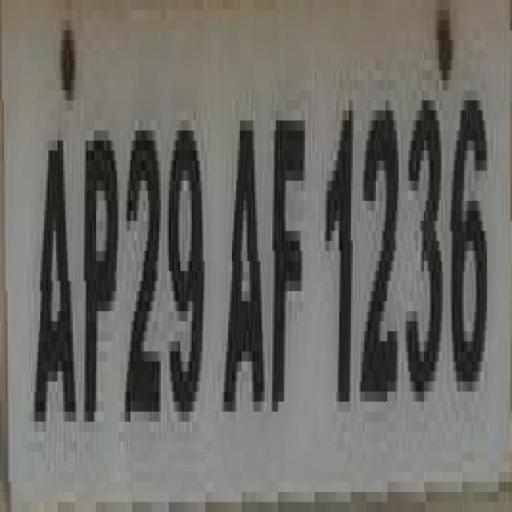number plate: (17, 10, 512, 482)
